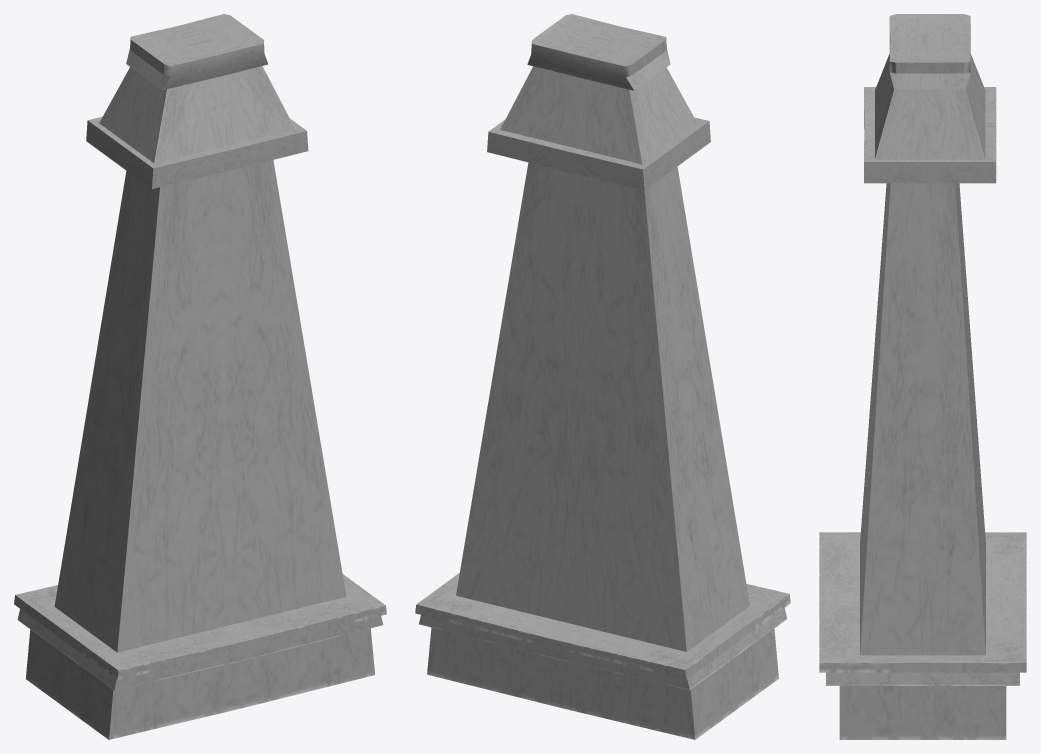
Rendered from room_SquarePillar.fbx.
3 views of the same model, side by side, from view 1: azimuth 30°, elevation 25°; view 2: azimuth 150°, elevation 25°; view 3: azimuth 270°, elevation 25° (orthographic).
Visible parts, largest first — view 1: room_Pillar; view 2: room_Pillar; view 3: room_Pillar.
Part boxes in pixels (<box>): room_Pillar: <box>14,14,386,739</box>; room_Pillar: <box>415,14,790,739</box>; room_Pillar: <box>819,14,1026,739</box>.
Size of the model in its own units: 1.06 by 2.39 by 0.7071.
